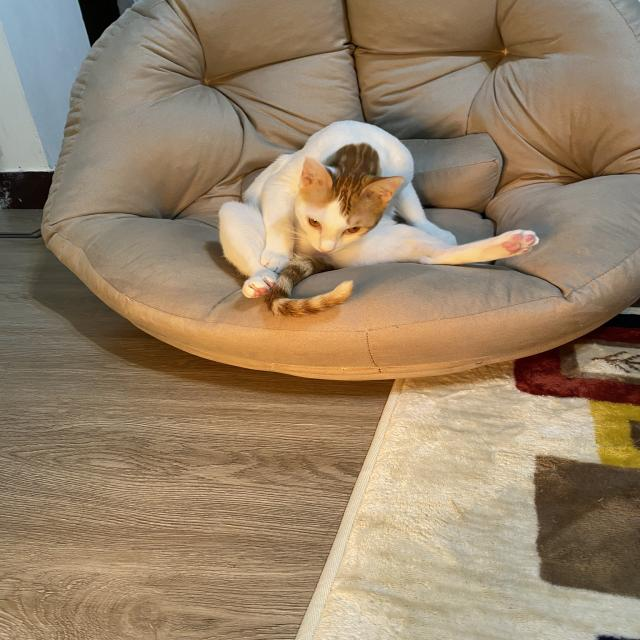cat1: (216, 120, 540, 318)
